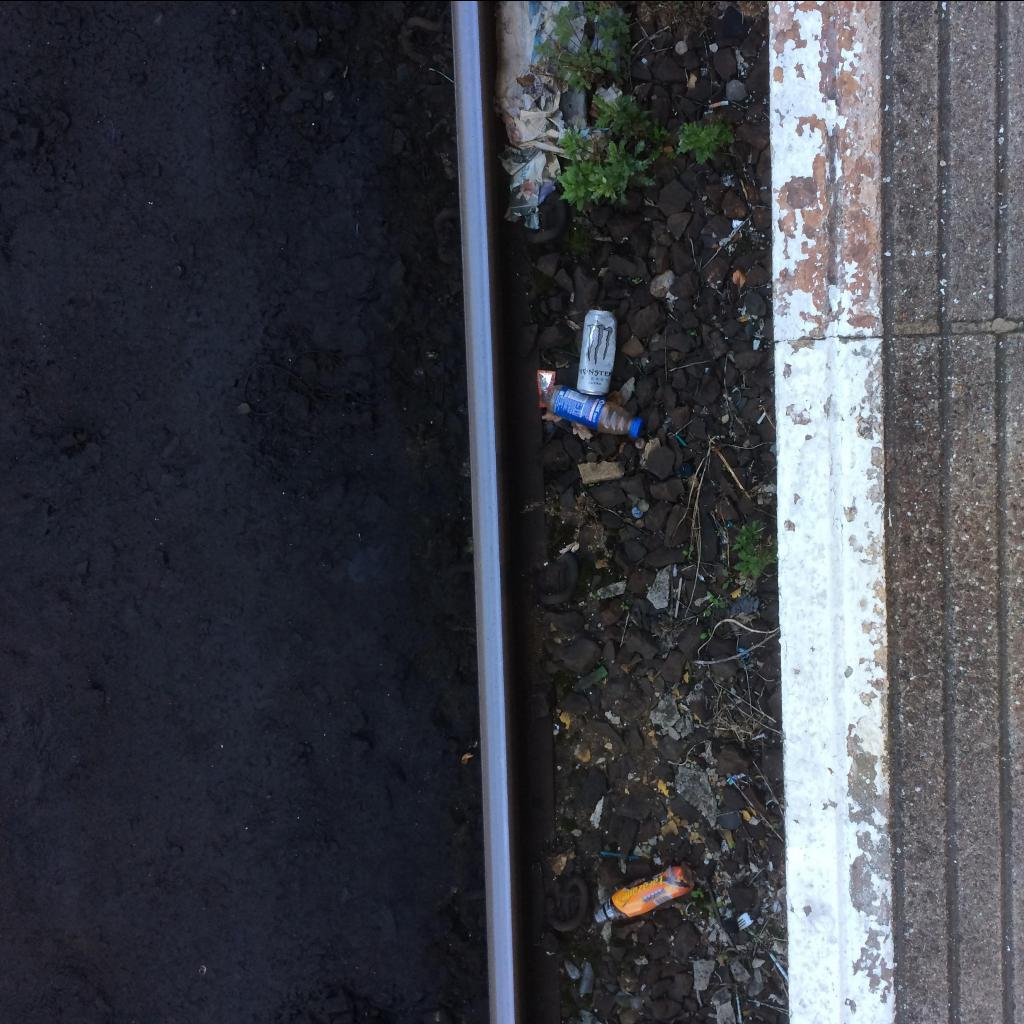Cigarette: (708, 102, 730, 108)
Clear plastic bottle: (594, 860, 698, 924), (542, 384, 644, 438)
Drink can: (577, 308, 617, 395)
Metal bottle cap: (637, 499, 649, 511), (635, 436, 646, 448), (632, 506, 642, 518)
Normal paper: (494, 0, 610, 228)
Other plastic: (537, 370, 556, 406)
Other plastic bottle: (675, 434, 687, 446)
Plastic bottle cap: (632, 416, 644, 437), (679, 462, 693, 476)
Plastic utensils: (737, 912, 754, 930)
Unlabeled litter: (769, 951, 789, 981), (727, 772, 745, 784), (736, 991, 742, 1023), (738, 646, 750, 658)
